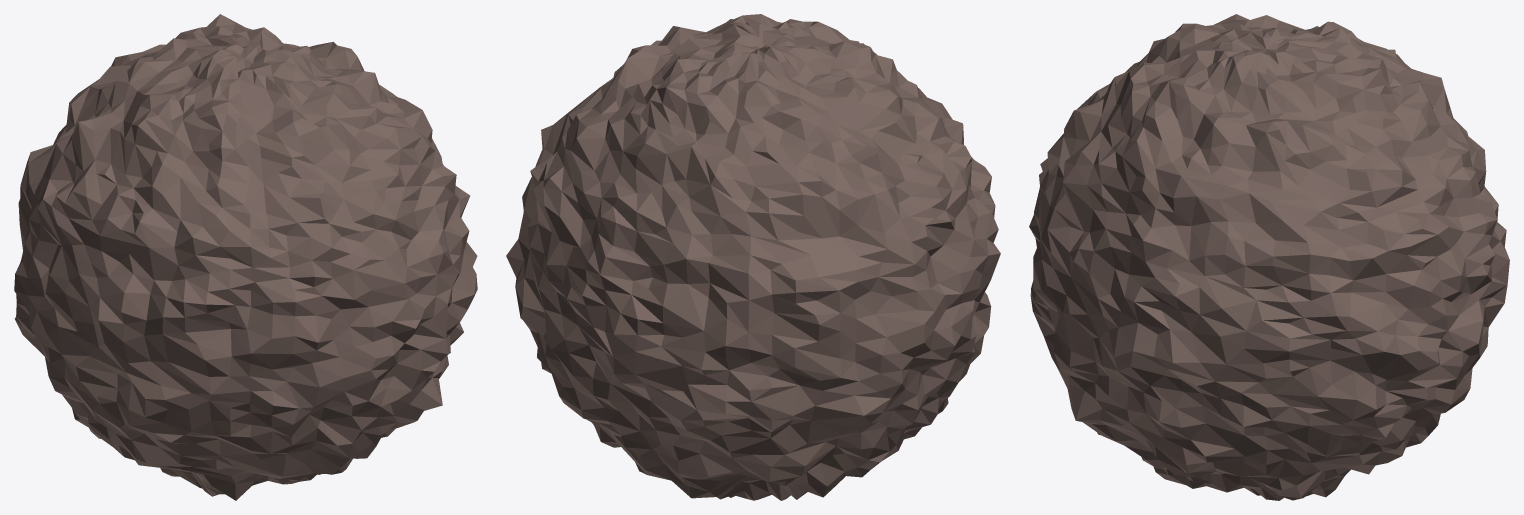
The model's file is Asteroid 4.fbx.
The picture shows the model from 3 angles, left to right: view 1: azimuth 30°, elevation 25°; view 2: azimuth 150°, elevation 25°; view 3: azimuth 270°, elevation 25°; orthographic projection. The views are drawn at different scales.
Parts seen in each view (by area): view 1: Asteroida 4; view 2: Asteroida 4; view 3: Asteroida 4.
Boxes of the visible parts, x1,y1,x2,y2 form: Asteroida 4: (14,14,477,500); Asteroida 4: (506,14,1000,500); Asteroida 4: (1029,14,1509,500).
Size of the model in its own units: 690 by 686 by 678.
